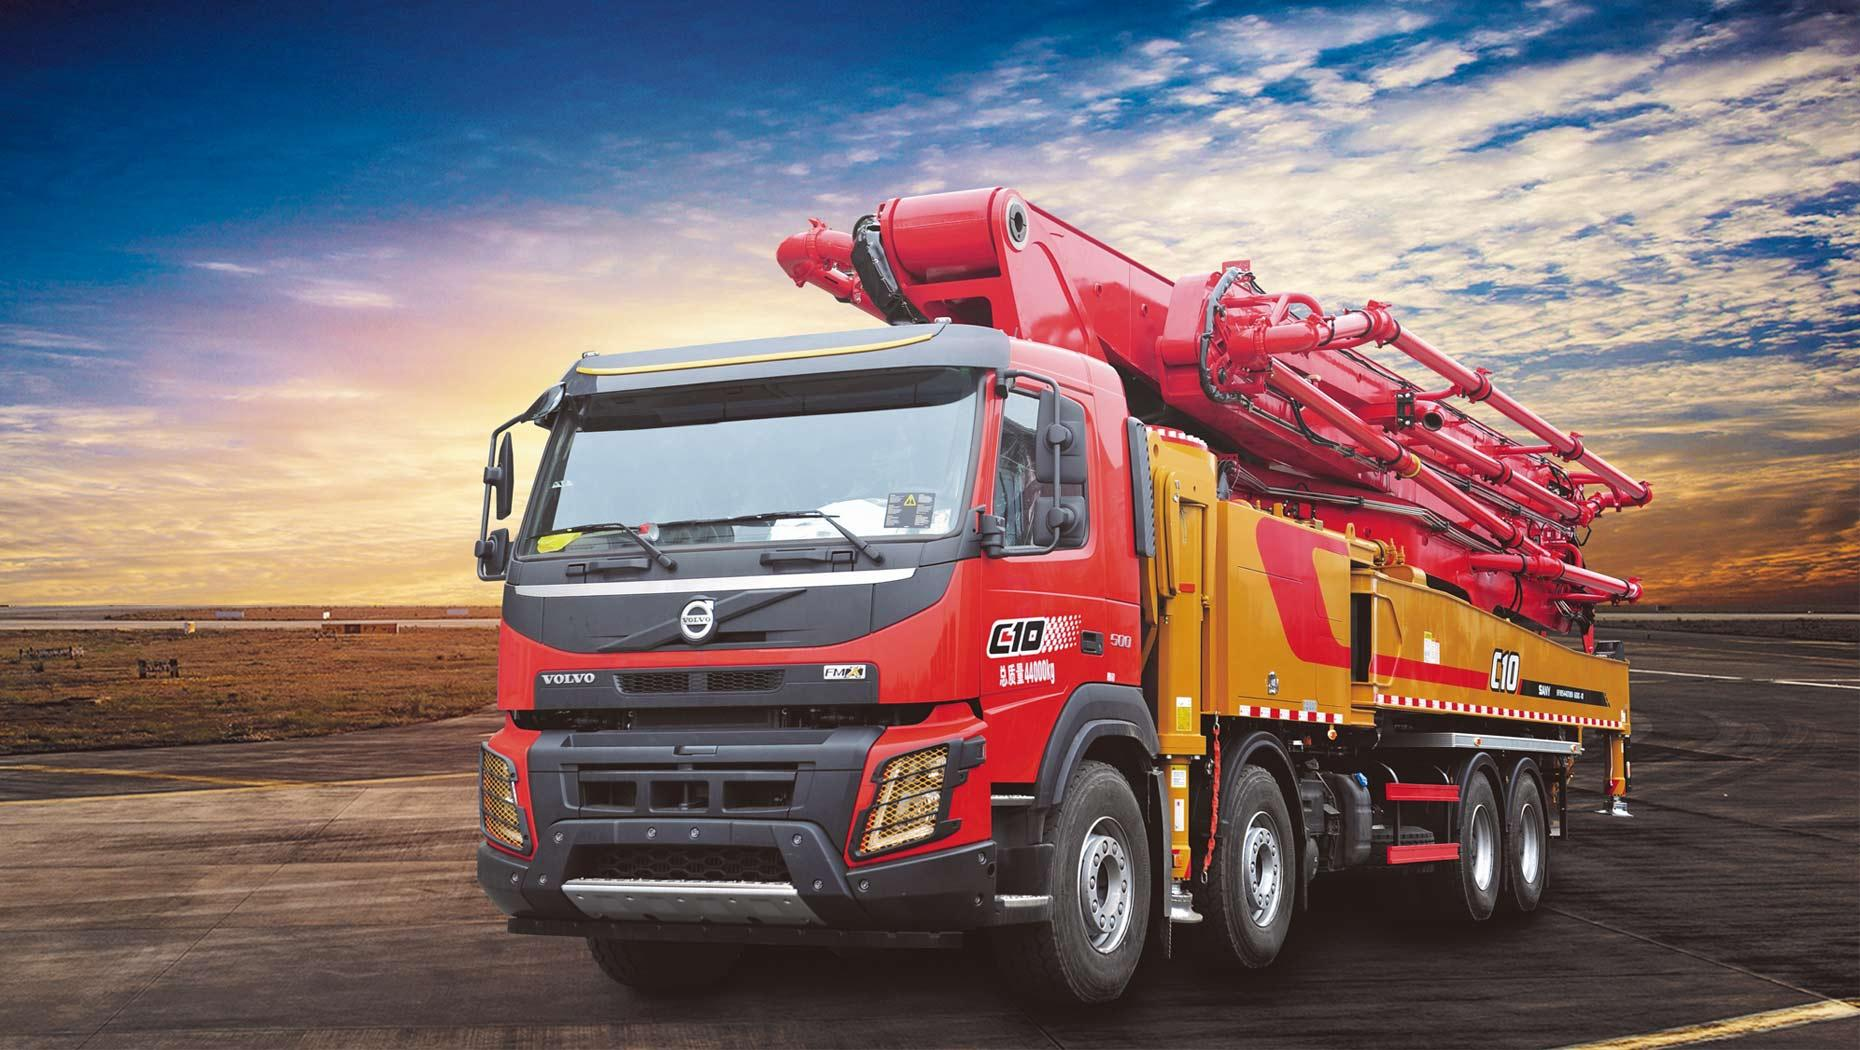truck: (423, 158, 1688, 1008)
